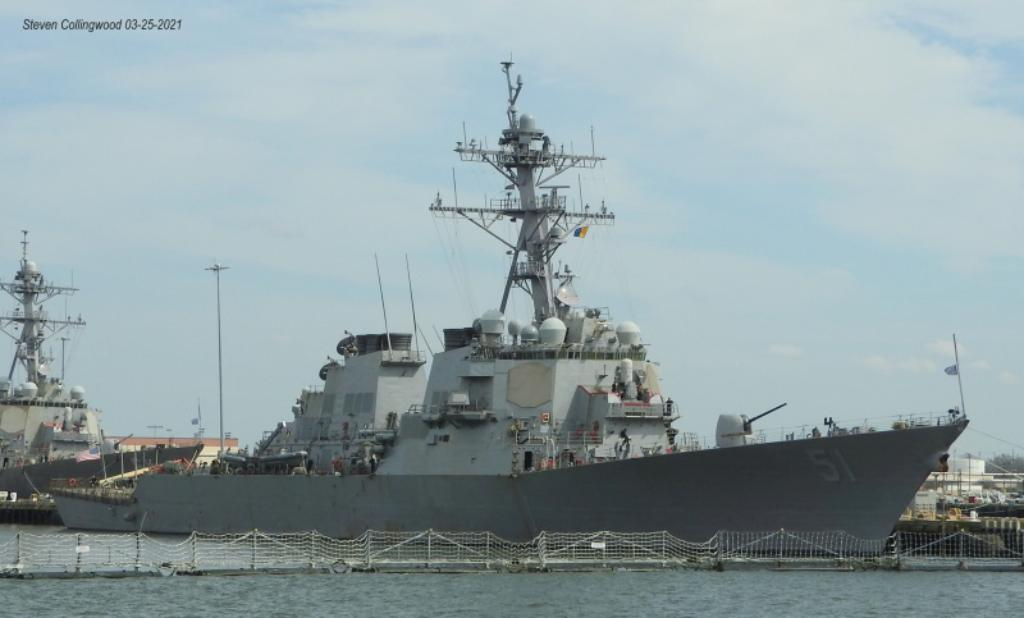Warship: (44, 53, 974, 573), (0, 212, 210, 528)
